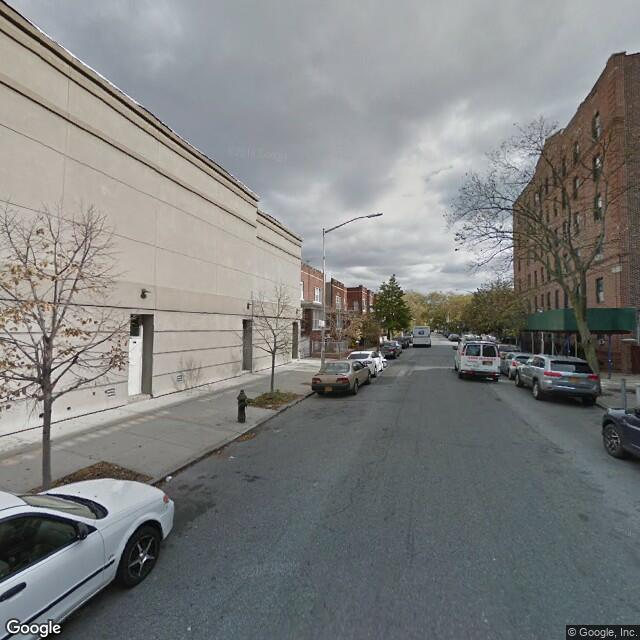litter: (166, 475, 173, 481), (229, 454, 235, 458), (187, 626, 191, 629)
